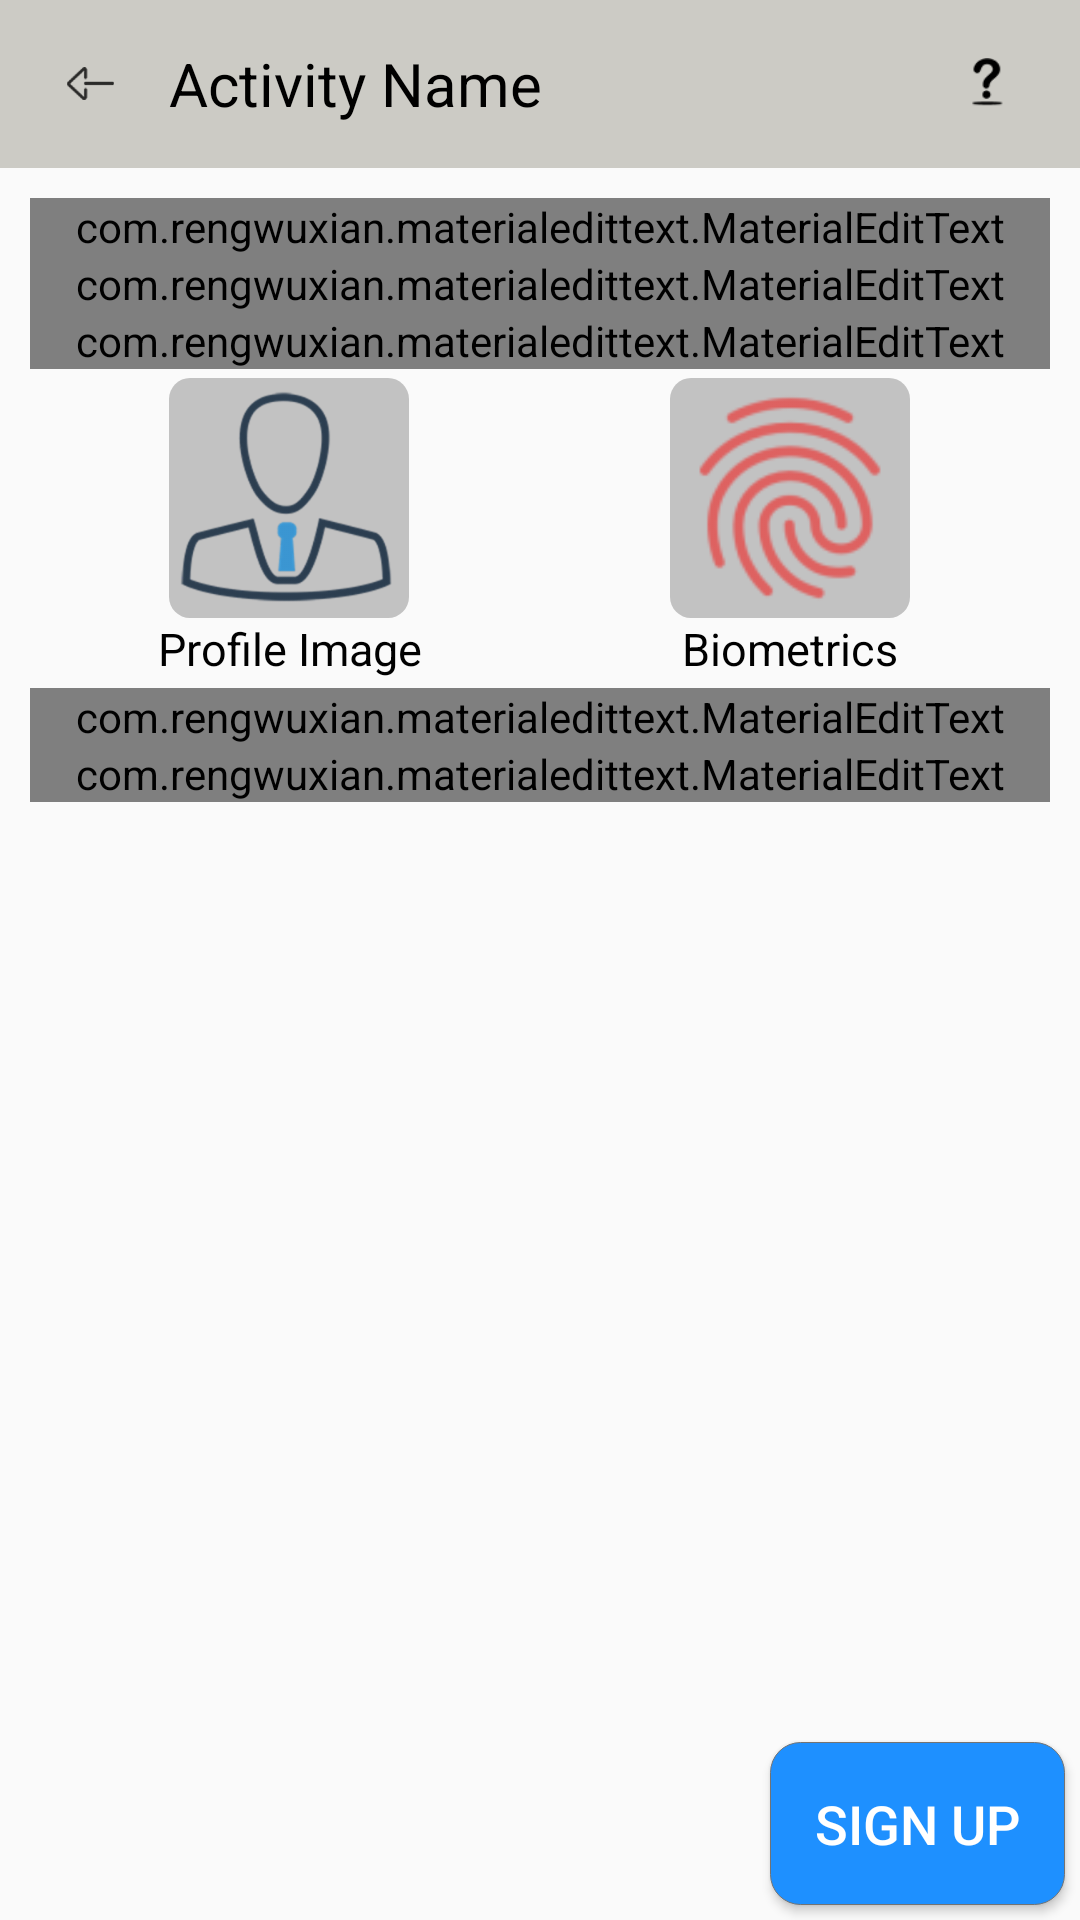

Named icons in this screenshot (1080w x 1920h) and their bounding boxes, [x1=x1, y1=y1, x2=x2, y2=y2]:
back: [x1=67, y1=67, x2=114, y2=100]
empty finger: [x1=670, y1=378, x2=910, y2=618]
help: [x1=972, y1=58, x2=1003, y2=106]
